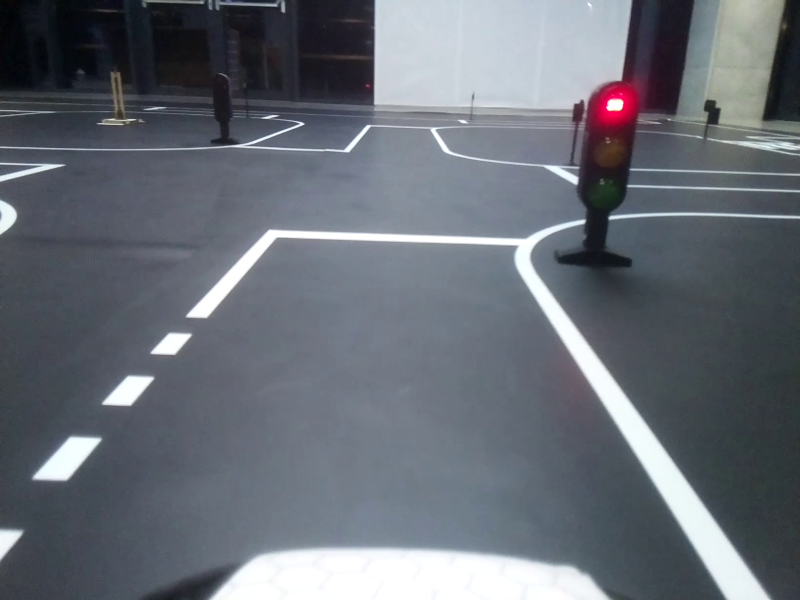traffic_red: (583, 84, 636, 209)
